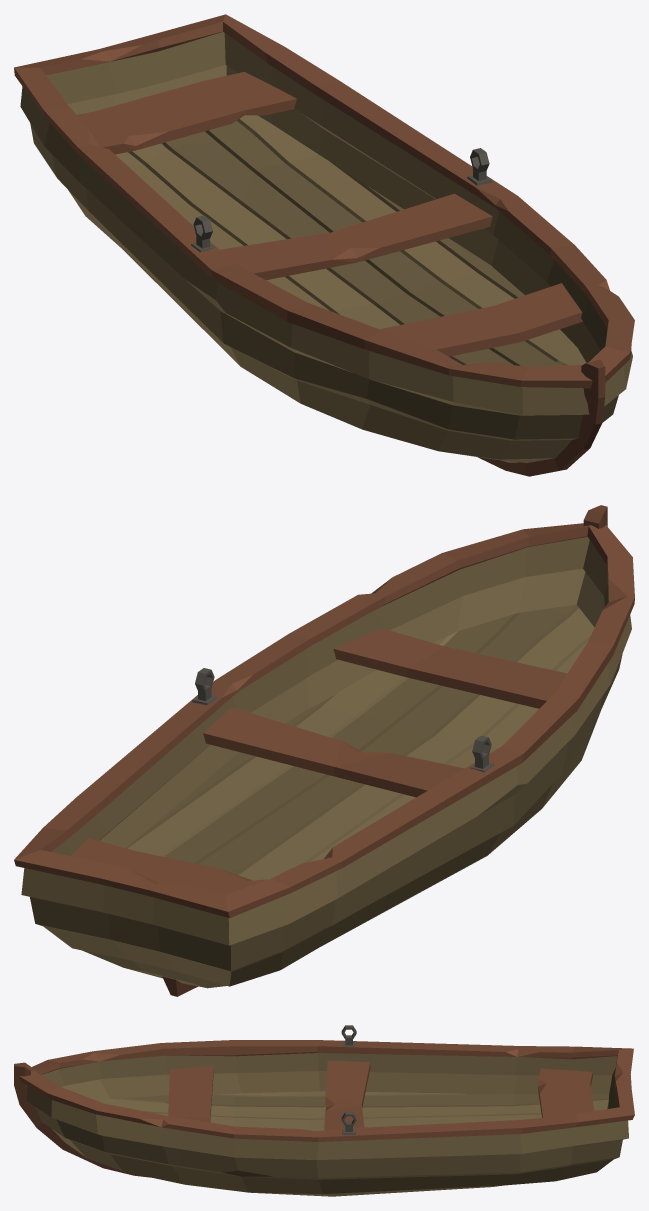
Rendered from BoatSmall_2.fbx.
3 renders of one model, top to bottom at view 1: azimuth 30°, elevation 25°; view 2: azimuth 150°, elevation 25°; view 3: azimuth 270°, elevation 25°, orthographic. The views are drawn at different scales.
Parts seen in each view (by area): view 1: BoatSmall_2; view 2: BoatSmall_2; view 3: BoatSmall_2.
Part boxes in pixels (bbox=[...]): BoatSmall_2: bbox=[14, 14, 634, 476]; BoatSmall_2: bbox=[14, 505, 634, 996]; BoatSmall_2: bbox=[14, 1025, 634, 1196].
Bounding box in the file's own units: 148 × 89.99 × 402.
